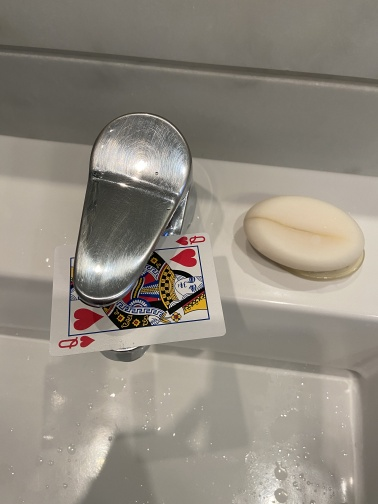queen: (48, 231, 227, 359)
